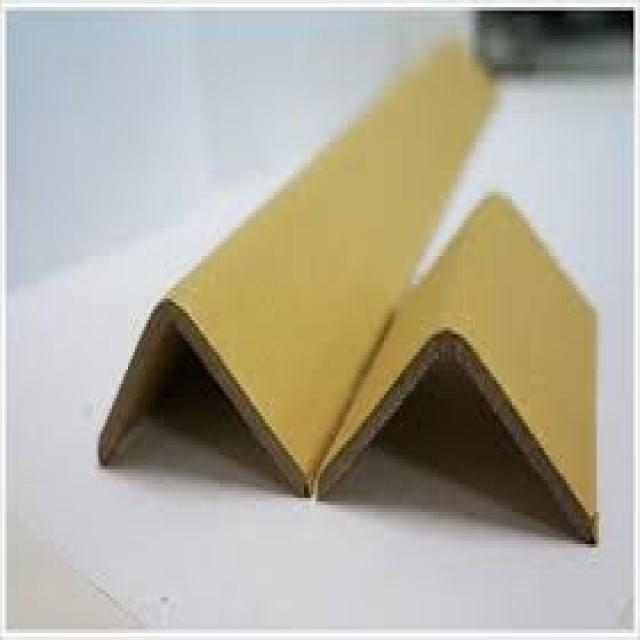cardboard paper: (97, 40, 491, 493), (317, 193, 594, 540)
